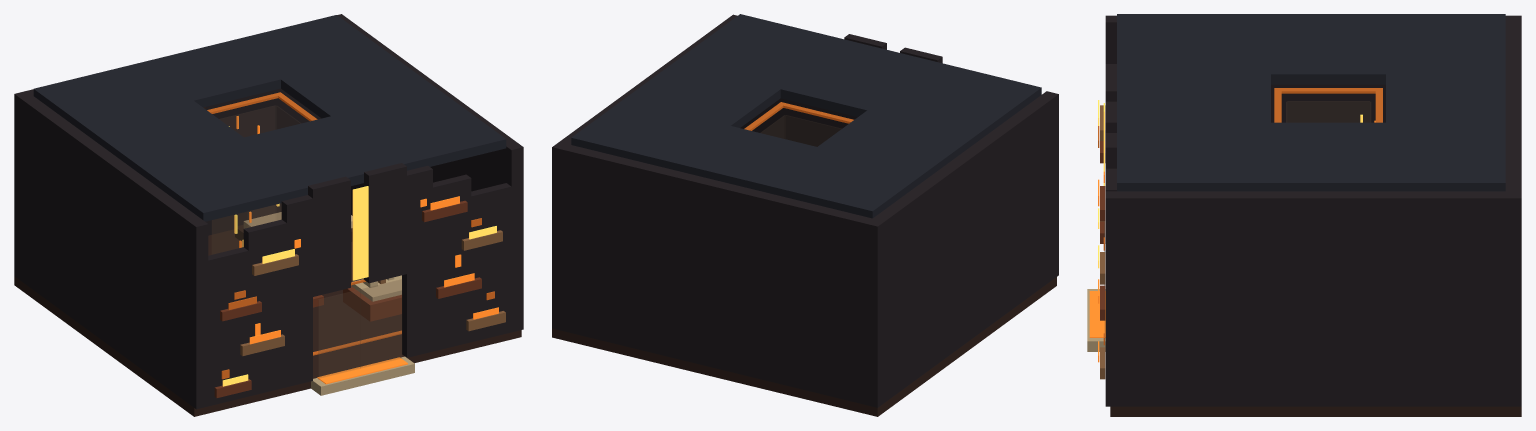
The model's file is plot.glb.
3 views of the same model, side by side, from view 1: azimuth 30°, elevation 25°; view 2: azimuth 150°, elevation 25°; view 3: azimuth 270°, elevation 25° (orthographic). The views are drawn at different scales.
Parts seen in each view (by area): view 1: folded_shell, floor, facade_clay_relief, door_panel_L, door_panel_R, rain_glass, domestic_ring, facade_embers, soft_apertures, porch, threshold_glow, rain_ceiling_glow; view 2: folded_shell, floor, rain_glass, rain_ceiling_glow; view 3: folded_shell, floor, rain_glass, facade_clay_relief, rain_ceiling_glow, threshold_glow.
Part boxes in pixels (bbox=[...]): folded_shell: bbox=[14, 14, 523, 409]; floor: bbox=[14, 229, 521, 416]; facade_clay_relief: bbox=[214, 200, 505, 397]; door_panel_L: bbox=[318, 290, 360, 378]; door_panel_R: bbox=[360, 279, 401, 367]; rain_glass: bbox=[212, 106, 300, 254]; domestic_ring: bbox=[235, 212, 401, 321]; facade_embers: bbox=[221, 186, 494, 379]; soft_apertures: bbox=[222, 196, 498, 386]; porch: bbox=[311, 356, 414, 395]; threshold_glow: bbox=[317, 279, 407, 384]; rain_ceiling_glow: bbox=[207, 92, 317, 121]; folded_shell: bbox=[552, 14, 1058, 407]; floor: bbox=[552, 277, 1056, 416]; rain_glass: bbox=[761, 115, 840, 146]; rain_ceiling_glow: bbox=[744, 102, 853, 130]; folded_shell: bbox=[1105, 14, 1521, 406]; floor: bbox=[1110, 406, 1521, 416]; rain_glass: bbox=[1286, 101, 1370, 122]; facade_clay_relief: bbox=[1100, 105, 1105, 379]; rain_ceiling_glow: bbox=[1274, 88, 1382, 122]; threshold_glow: bbox=[1089, 291, 1105, 337].
Bounding box in the file's own units: 9.4 × 5.5 × 9.45.
Materials: 4 (1 with a texture image).
